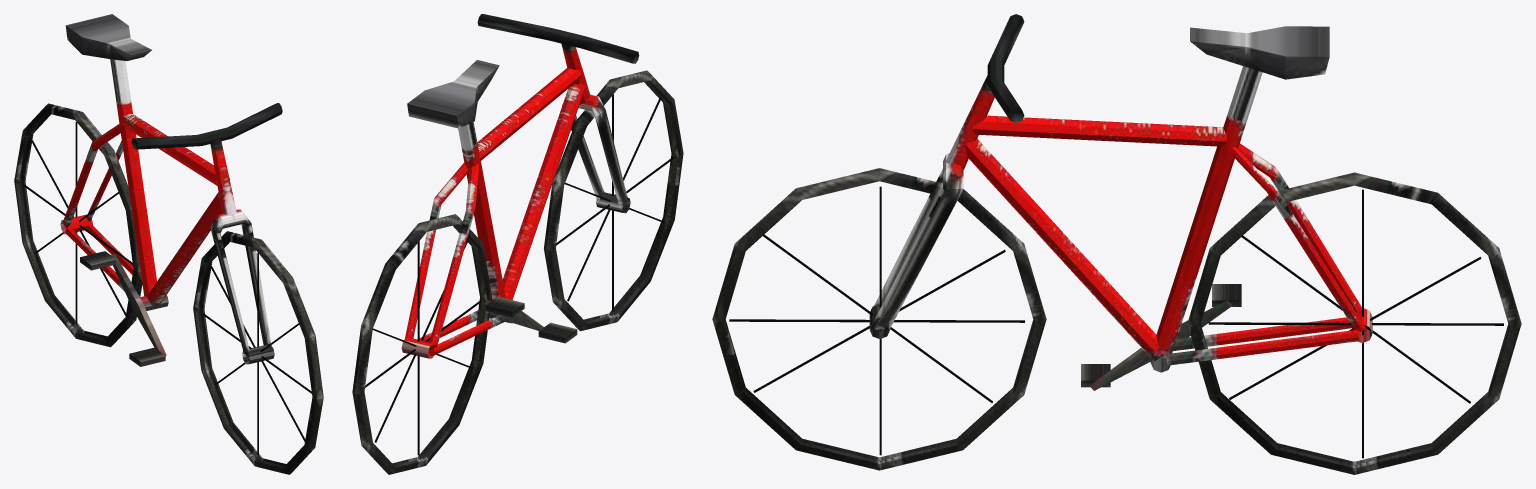
Rendered from bike_red.obj.
The picture shows the model from 3 angles, left to right: view 1: azimuth 30°, elevation 25°; view 2: azimuth 150°, elevation 25°; view 3: azimuth 270°, elevation 25°; orthographic projection. The views are drawn at different scales.
Bounding box in the file's own units: 2.6 × 5.68 × 9.44.
Materials: 2 (2 with a texture image).
